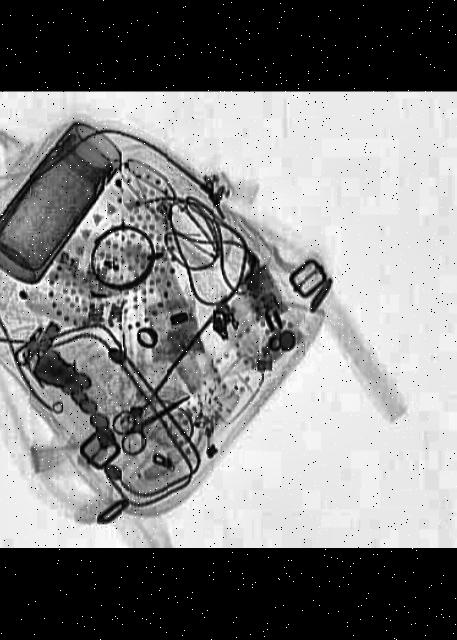Scissors: (96, 382, 202, 459)
